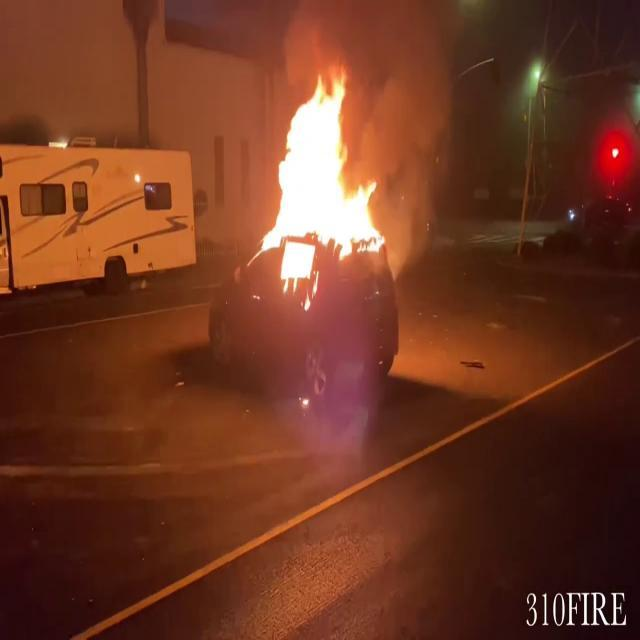Fire: (256, 62, 388, 270)
Smoke: (338, 1, 486, 228)
